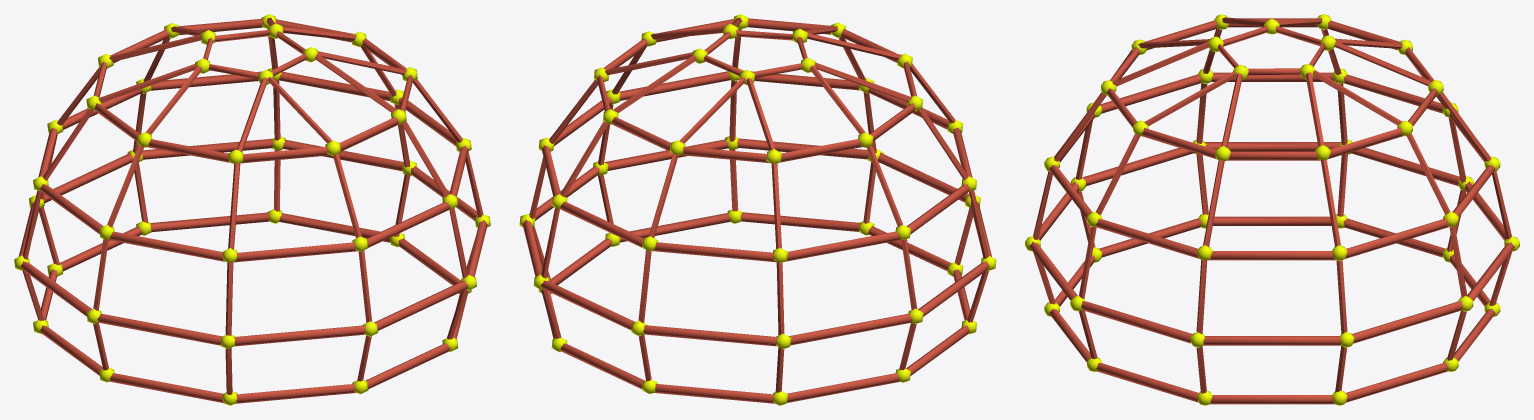
Rendered from SM_Game_Piramid_01.fbx.
The picture shows the model from 3 angles, left to right: view 1: azimuth 30°, elevation 25°; view 2: azimuth 150°, elevation 25°; view 3: azimuth 270°, elevation 25°; orthographic projection.
Visible parts, largest first — view 1: SM_Game_Piramid_01; view 2: SM_Game_Piramid_01; view 3: SM_Game_Piramid_01.
Boxes of the visible parts, <box> form: SM_Game_Piramid_01: <box>14,14,490,405</box>; SM_Game_Piramid_01: <box>519,14,996,405</box>; SM_Game_Piramid_01: <box>1025,14,1519,405</box>.
Bounding box in the file's own units: 251 × 160 × 262.
